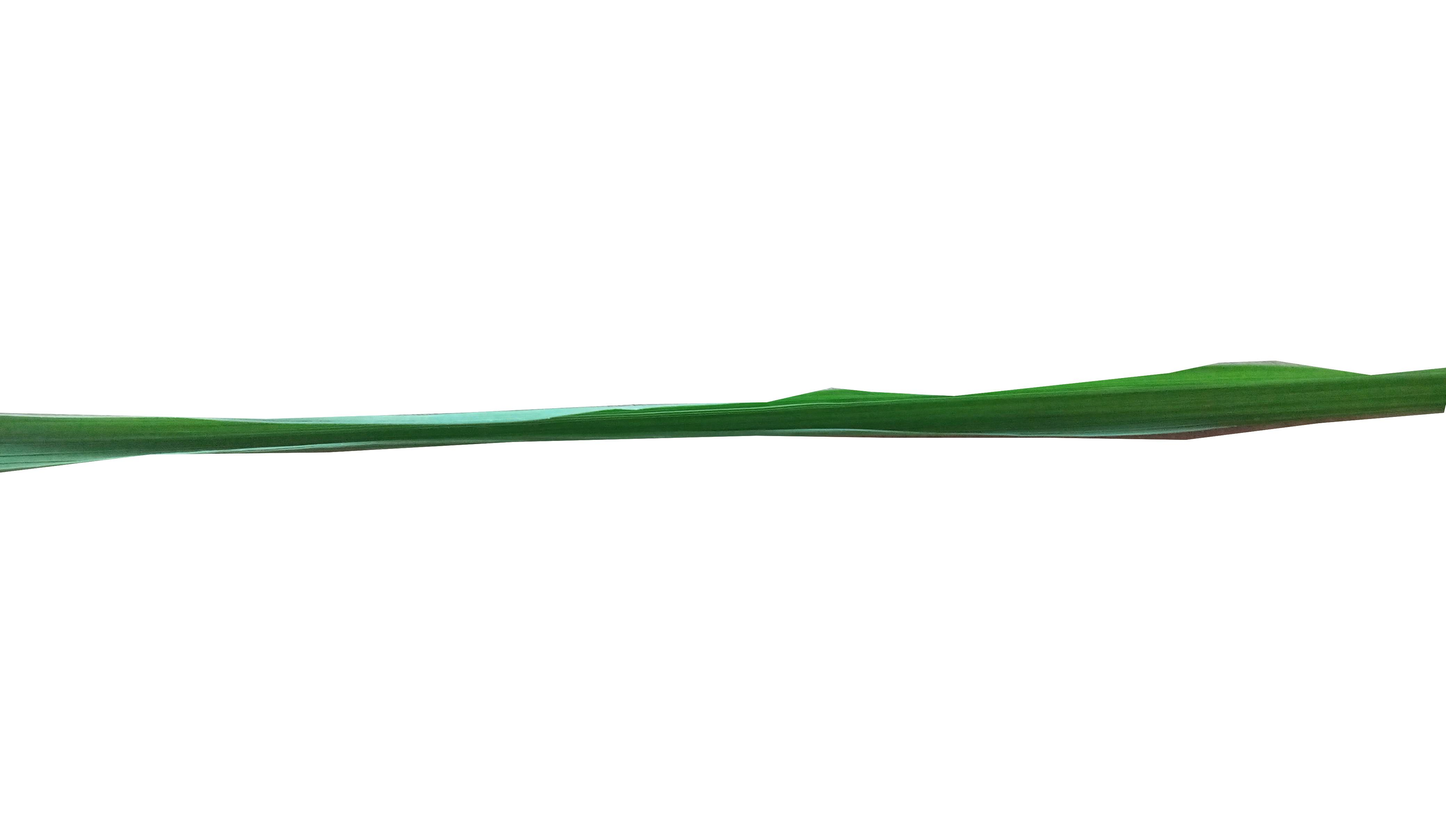Healthy: (0, 364, 1446, 474)
